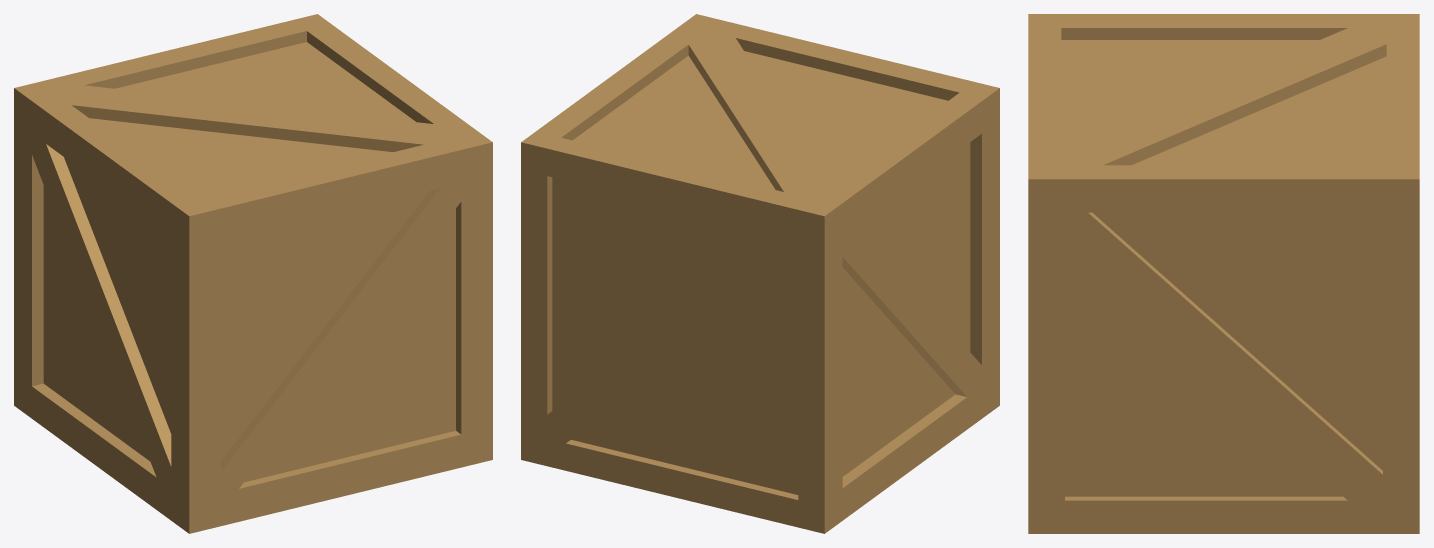
Rendered from stealth_box.fbx.
The picture shows the model from 3 angles, left to right: view 1: azimuth 30°, elevation 25°; view 2: azimuth 150°, elevation 25°; view 3: azimuth 270°, elevation 25°; orthographic projection. The views are drawn at different scales.
Parts seen in each view (by area): view 1: Cube.010; view 2: Cube.010; view 3: Cube.010.
Boxes of the visible parts, left/top/right/bottom form: Cube.010: left=14, top=14, right=492, bottom=533; Cube.010: left=521, top=14, right=999, bottom=533; Cube.010: left=1028, top=14, right=1419, bottom=533.
Bounding box in the file's own units: 250 × 250 × 250.
